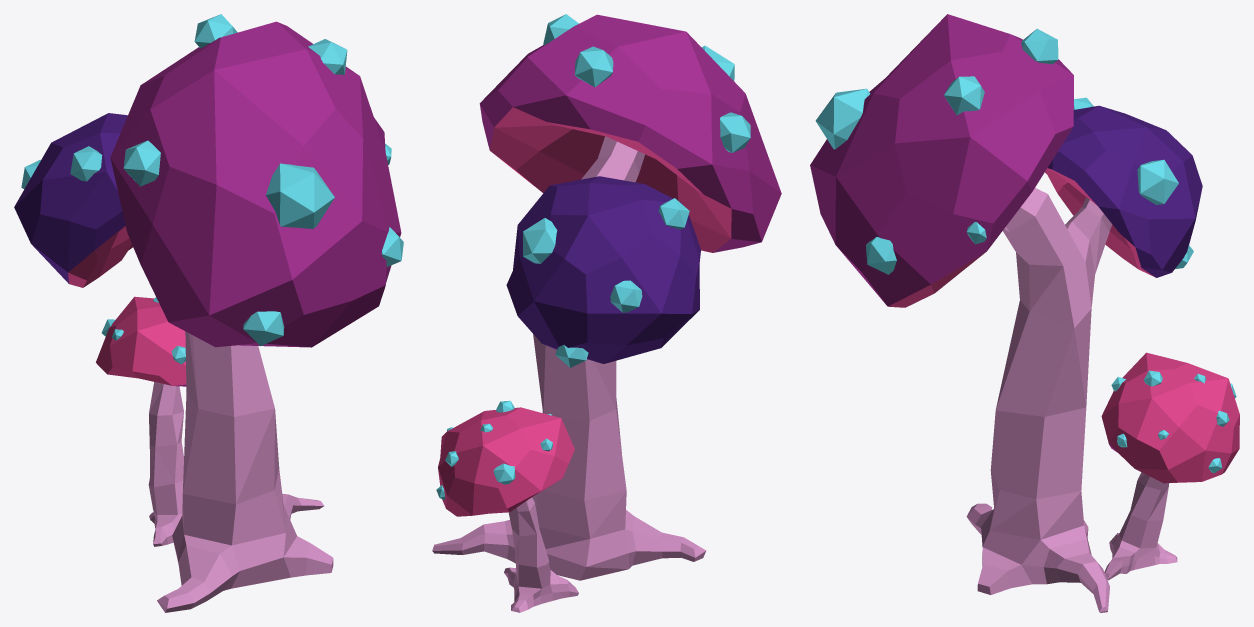
Rendered from Mushroom_Tree_03.fbx.
3 views of the same model, side by side, from view 1: azimuth 30°, elevation 25°; view 2: azimuth 150°, elevation 25°; view 3: azimuth 270°, elevation 25° (orthographic). The views are drawn at different scales.
Parts seen in each view (by area): view 1: Mushroom_Tree_3; view 2: Mushroom_Tree_3; view 3: Mushroom_Tree_3.
Part boxes in pixels (x1,y1,x2,y2): Mushroom_Tree_3: [14, 14, 403, 612]; Mushroom_Tree_3: [432, 14, 781, 612]; Mushroom_Tree_3: [810, 14, 1239, 612].
Size of the model in its own units: 232 by 425 by 317.
